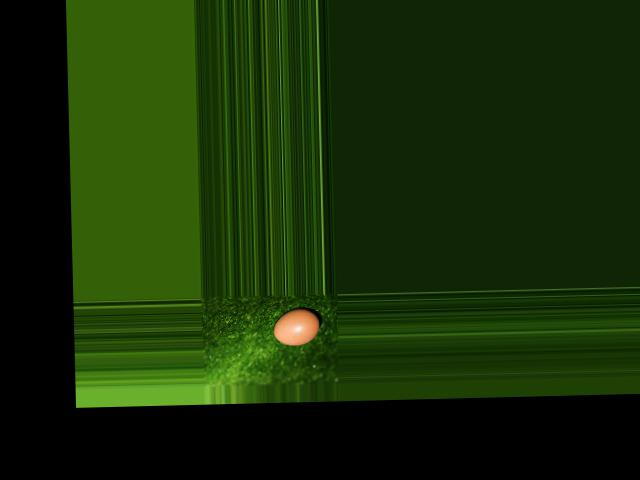egg: (272, 307, 320, 345)
